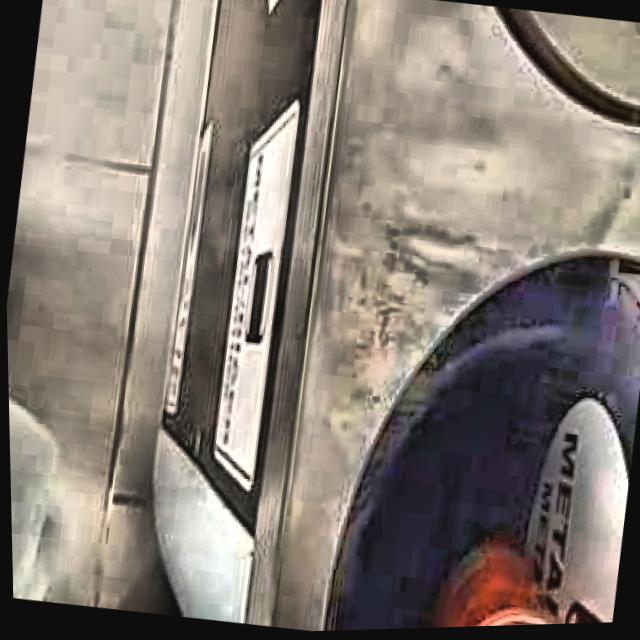metal: (437, 551, 552, 630)
